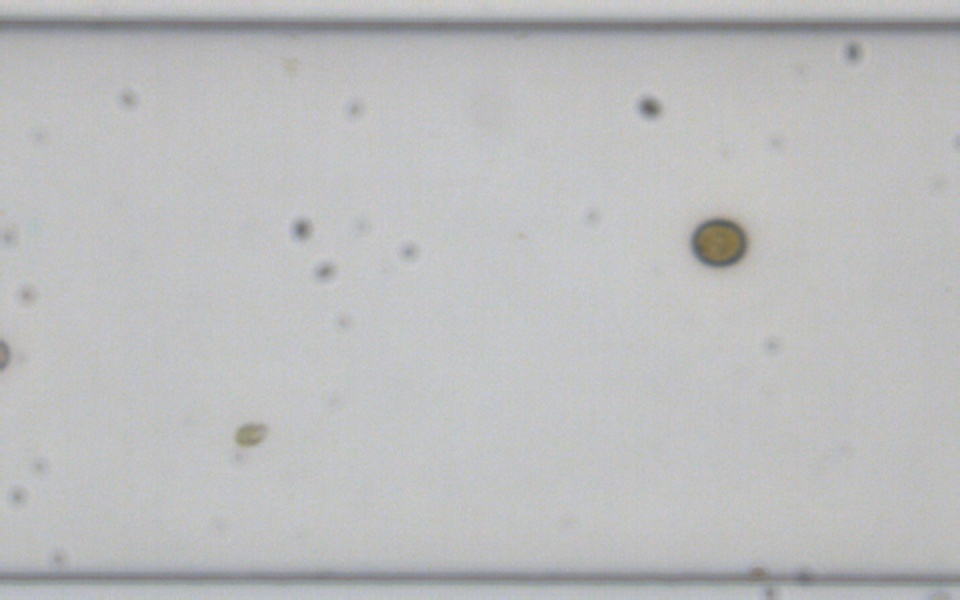Dunaliella salina: (232, 420, 270, 447)
Effrenium: (686, 214, 748, 271)
